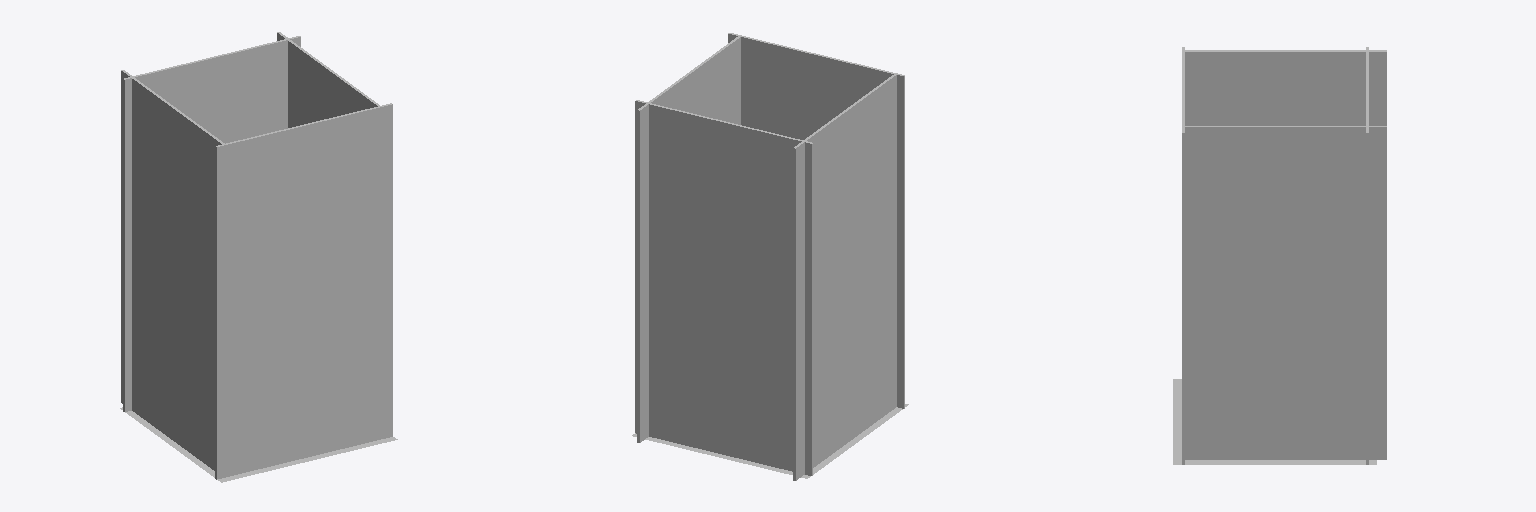
Rendered from room.obj.
3 views of the same model, side by side, from view 1: azimuth 30°, elevation 25°; view 2: azimuth 150°, elevation 25°; view 3: azimuth 270°, elevation 25° (orthographic).
Parts seen in each view (by area): view 1: wall_03, wall_02, wall_04, wall_01, Room; view 2: wall_04, wall_02, wall_03, wall_01, Room; view 3: wall_01, wall_02, Room, wall_03, wall_04.
Boxes of the visible parts, x1=… form: wall_03: x1=215, y1=103, x2=392, y2=479; wall_02: x1=121, y1=70, x2=224, y2=470; wall_04: x1=123, y1=36, x2=300, y2=411; wall_01: x1=277, y1=32, x2=379, y2=127; Room: x1=120, y1=407, x2=397, y2=482; wall_04: x1=635, y1=100, x2=812, y2=475; wall_02: x1=793, y1=74, x2=896, y2=480; wall_03: x1=728, y1=33, x2=904, y2=408; wall_01: x1=637, y1=36, x2=740, y2=442; Room: x1=632, y1=404, x2=908, y2=478; wall_01: x1=1183, y1=126, x2=1386, y2=459; wall_02: x1=1183, y1=50, x2=1386, y2=125; Room: x1=1173, y1=379, x2=1376, y2=464; wall_03: x1=1182, y1=47, x2=1184, y2=464; wall_04: x1=1366, y1=47, x2=1368, y2=464.
Bounding box in the file's own units: 10.02 × 18 × 10.49.